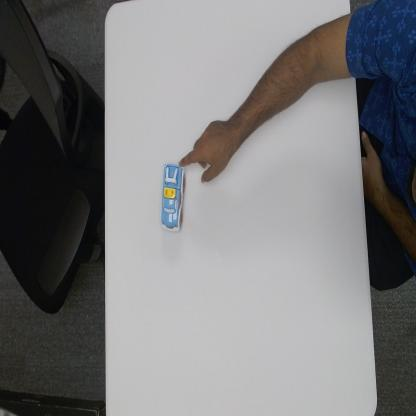Arm: (230, 16, 354, 147)
Car: (159, 162, 186, 233)
Hand: (178, 118, 232, 184)
